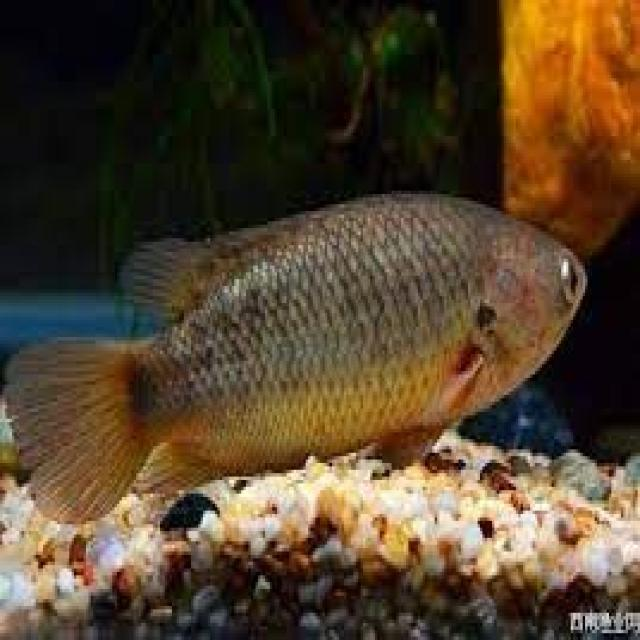Climbing-Perch: (12, 191, 592, 537)
